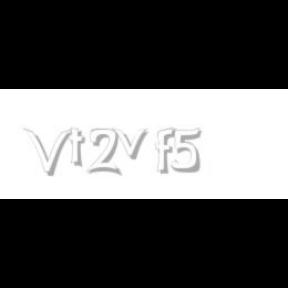2: (86, 128, 120, 176)
5: (171, 128, 202, 174)
V: (24, 128, 72, 176)
f: (155, 128, 179, 174)
t: (68, 128, 90, 168)
v: (112, 128, 152, 160)
